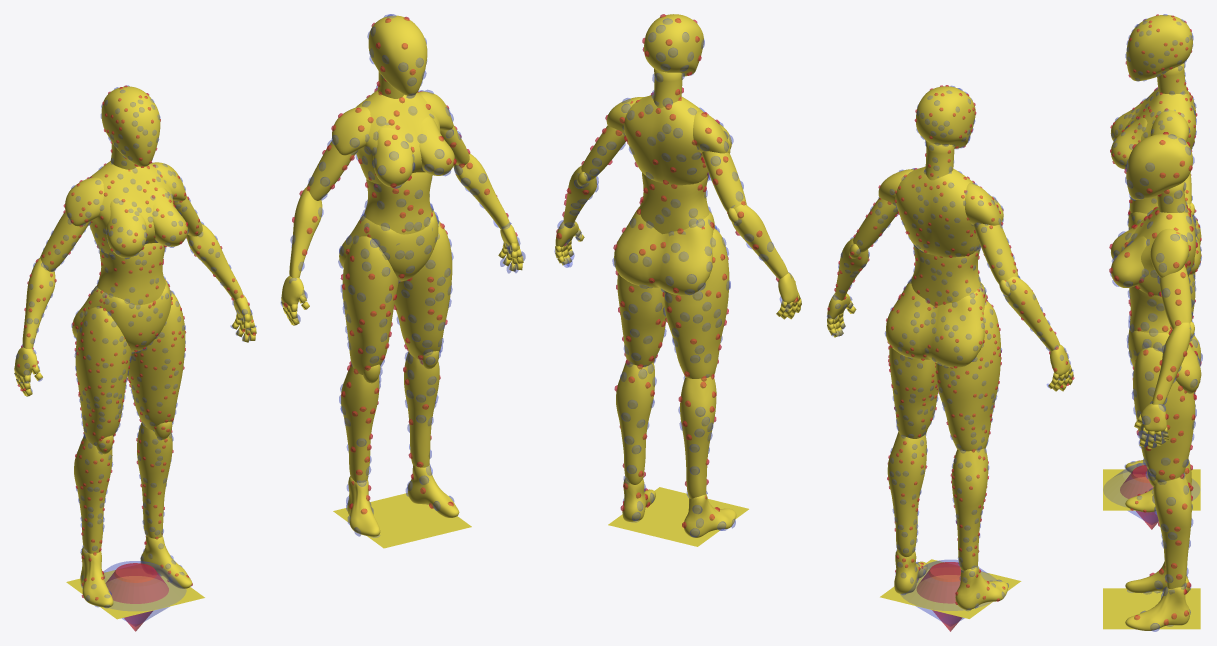
File: week4.glb
3 renders of one model, left to right at view 1: azimuth 30°, elevation 25°; view 2: azimuth 150°, elevation 25°; view 3: azimuth 270°, elevation 25°, orthographic. The views are drawn at different scales.
Parts seen in each view (by area): view 1: F_Upper_Leg_R.003, F_Upper_Leg_R.002, F_Upper_Leg_L.003, F_Upper_Leg_L.002, F_Head.003, F_Chest.003, F_Chest.002, Plane.001, Plane, F_Stomach.003, F_Stomach.002, F_Head.001 (+28 smaller); view 2: F_Hips.002, F_Hips.001, F_Chest.002, F_Chest.003, F_Upper_Leg_R.003, F_Upper_Leg_R.002, F_Lower_Leg_L.003, F_Upper_Leg_L.003, F_Upper_Leg_L.002, F_Lower_Leg_R.003, F_Lower_Leg_L.001, F_Lower_Leg_R.001 (+24 smaller); view 3: F_Upper_Leg_L.003, F_Head.003, F_Lower_Leg_L.003, Plane.001, F_Chest.003, F_Head.001, Plane, F_Hips.002, F_Chest.002, F_Feet_L.003, F_Lower_Arm_L.003, F_Head.002 (+22 smaller).
Part boxes in pixels (bbox=[...]): F_Upper_Leg_R.003: bbox=[342, 236, 398, 374]; F_Upper_Leg_R.002: bbox=[75, 307, 131, 445]; F_Upper_Leg_L.003: bbox=[394, 219, 452, 359]; F_Upper_Leg_L.002: bbox=[127, 290, 185, 430]; F_Head.003: bbox=[368, 15, 427, 95]; F_Chest.003: bbox=[356, 90, 440, 184]; F_Chest.002: bbox=[89, 161, 173, 254]; Plane.001: bbox=[333, 493, 471, 548]; Plane: bbox=[66, 564, 204, 619]; F_Stomach.003: bbox=[363, 172, 432, 234]; F_Stomach.002: bbox=[97, 243, 165, 305]; F_Head.001: bbox=[105, 87, 160, 166]; F_Hips.002: bbox=[614, 206, 714, 295]; F_Hips.001: bbox=[885, 279, 986, 367]; F_Chest.002: bbox=[895, 166, 980, 257]; F_Chest.003: bbox=[623, 95, 708, 185]; F_Upper_Leg_R.003: bbox=[664, 228, 729, 378]; F_Upper_Leg_R.002: bbox=[936, 300, 1000, 451]; F_Lower_Leg_L.003: bbox=[616, 360, 654, 484]; F_Upper_Leg_L.003: bbox=[617, 273, 666, 366]; F_Upper_Leg_L.002: bbox=[889, 345, 938, 438]; F_Lower_Leg_R.003: bbox=[680, 376, 716, 498]; F_Lower_Leg_L.001: bbox=[887, 432, 926, 556]; F_Lower_Leg_R.001: bbox=[951, 449, 987, 570]; F_Upper_Leg_L.003: bbox=[1133, 347, 1195, 482]; F_Head.003: bbox=[1126, 133, 1192, 199]; F_Lower_Leg_L.003: bbox=[1153, 474, 1191, 588]; Plane.001: bbox=[1103, 588, 1200, 629]; F_Chest.003: bbox=[1124, 207, 1195, 295]; F_Head.001: bbox=[1126, 15, 1165, 81]; Plane: bbox=[1103, 469, 1200, 510]; F_Hips.002: bbox=[1128, 327, 1201, 393]; F_Chest.002: bbox=[1124, 88, 1195, 150]; F_Feet_L.003: bbox=[1125, 586, 1189, 630]; F_Lower_Arm_L.003: bbox=[1152, 322, 1190, 405]; F_Head.002: bbox=[1138, 15, 1192, 81].
Size of the model in its own units: 11.34 by 11.76 by 2.05.
